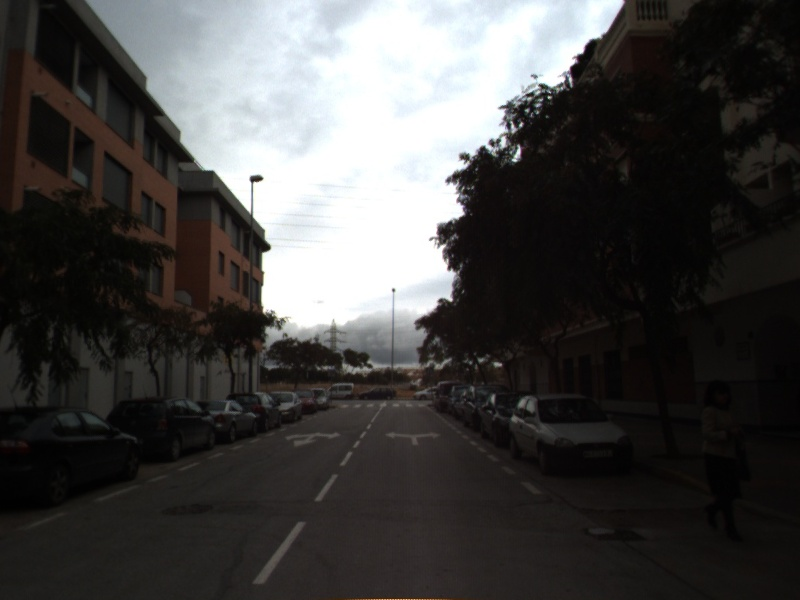LEFT_RIGHT: (383, 429, 444, 447)
